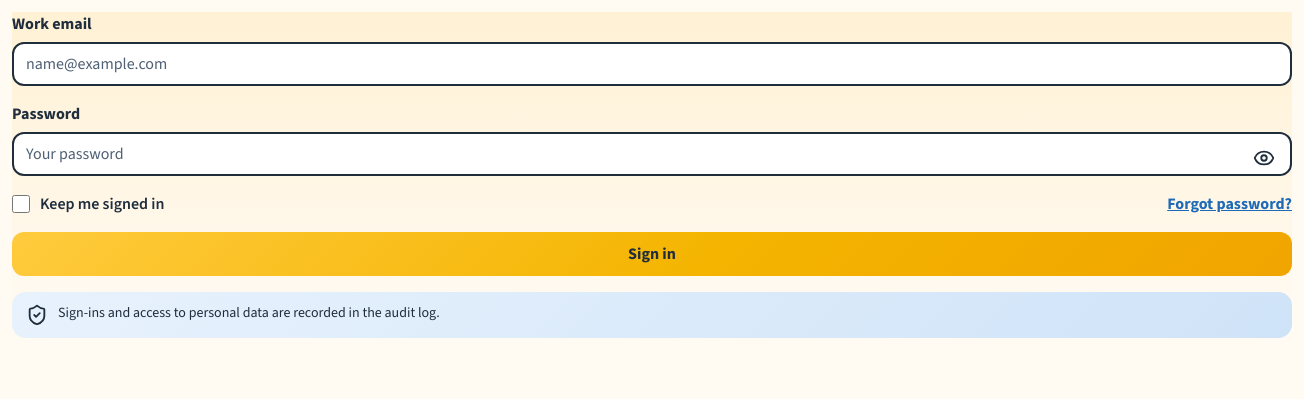
LoginForm › shows validation errors when submitted empty
The width and height of the screenshot is (1304, 399).
Click the button "Sign in".
click(652, 254)  # box [12,232,1292,276]
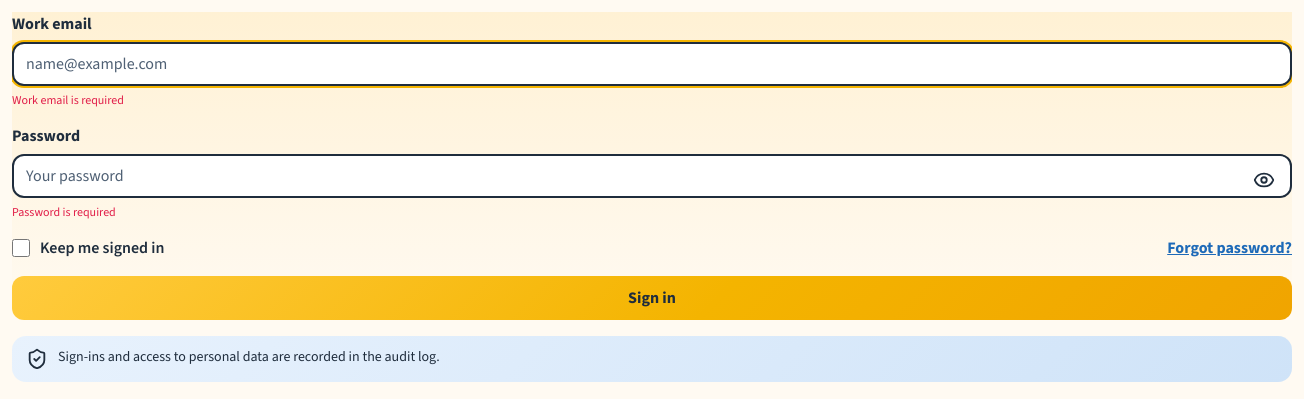
expect the text "Work email is required" is shown: met, box [12,92,124,108]
expect the text "Password is required" is shown: met, box [12,204,116,220]
